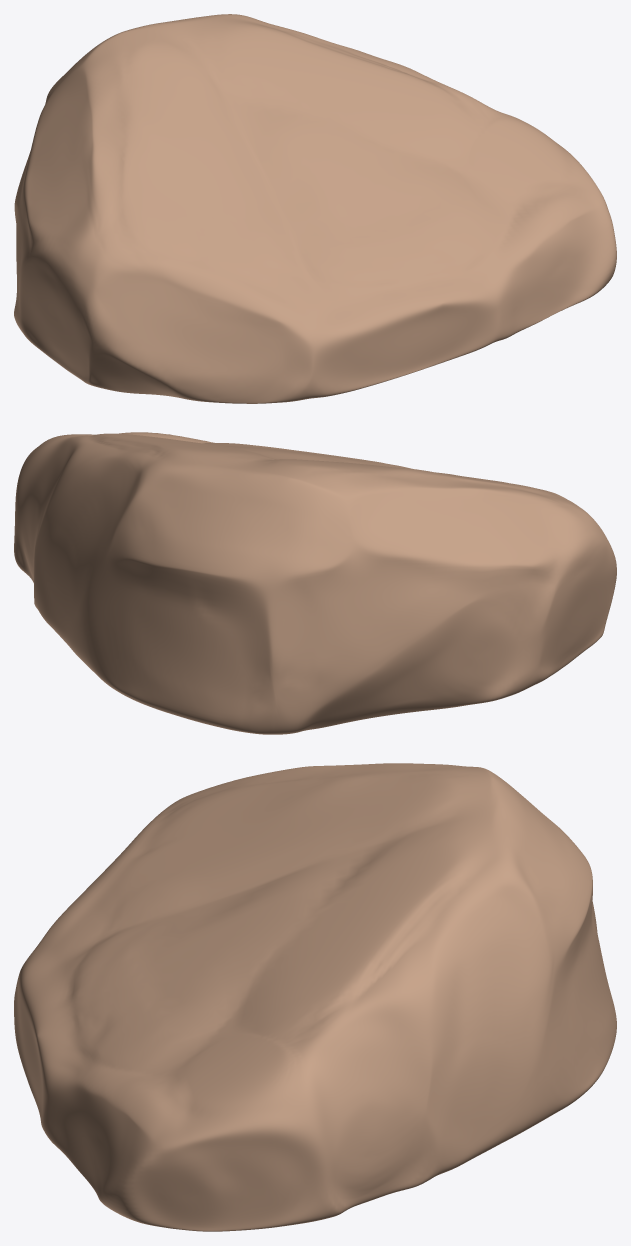
File: Rock6_HP.FBX
The picture shows the model from 3 angles, top to bottom: view 1: azimuth 30°, elevation 25°; view 2: azimuth 150°, elevation 25°; view 3: azimuth 270°, elevation 25°; orthographic projection. The views are drawn at different scales.
Parts seen in each view (by area): view 1: Cylinder001; view 2: Cylinder001; view 3: Cylinder001.
Boxes of the visible parts, x1,y1,x2,y2 form: Cylinder001: (14, 14, 616, 403); Cylinder001: (14, 432, 616, 734); Cylinder001: (14, 763, 616, 1231).
Size of the model in its own units: 289 by 116 by 245.
